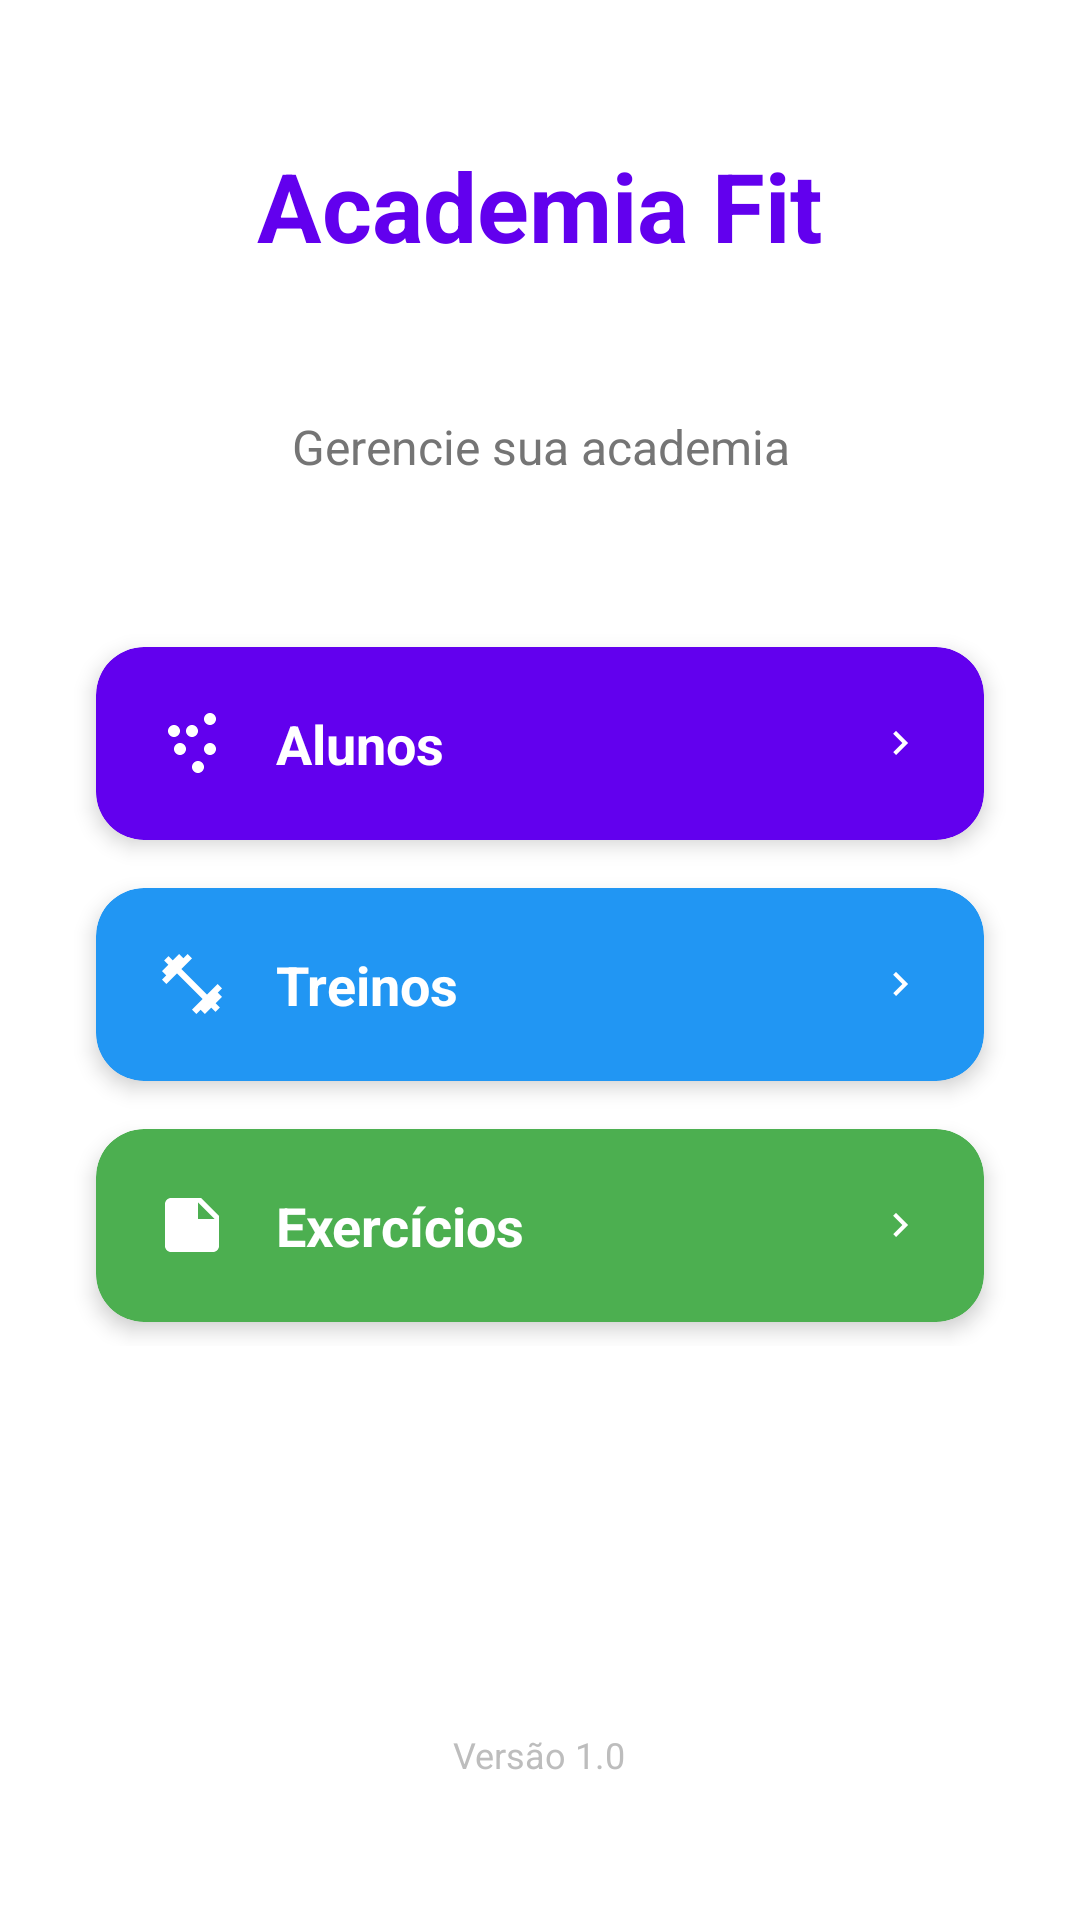

Icon bounding boxes for this 1080px×1920px phone screenshot, format [x1, y1, x2, y2]:
arrow right: [893, 731, 908, 755], [893, 972, 908, 996], [893, 1213, 908, 1237]
fitness: [162, 954, 222, 1014]
